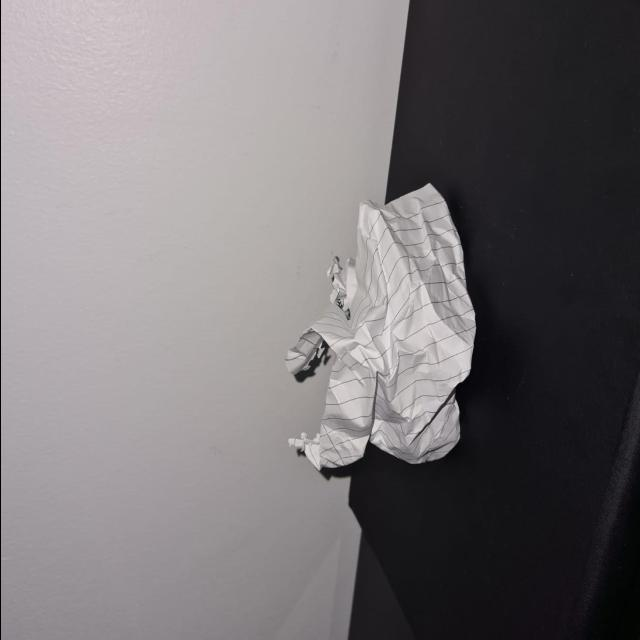kertas: (290, 184, 481, 496)
